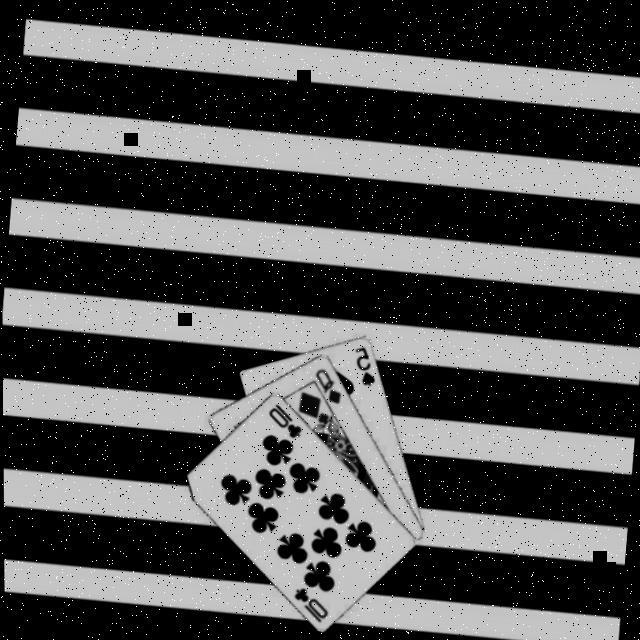10C: (286, 584, 330, 628), (261, 401, 304, 442)
5S: (347, 343, 379, 389)
QD: (307, 364, 343, 408)
